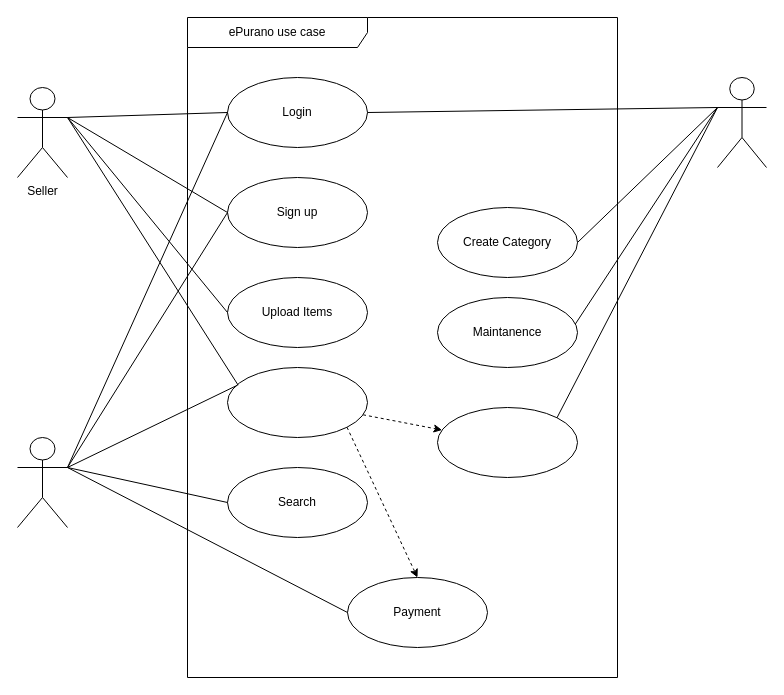
The diagram is 784 pixels wide and 695 high, and some of its shapes have lost their labels. Here are the shapes that lost their labels. From the top down, the centre of each, then its label:
At (741,122): "Admin".
At (297,402): "Transaction".
At (507,442): "Log".
At (42,482): "Buyer".
